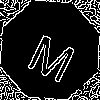M: (25, 25, 83, 85)
